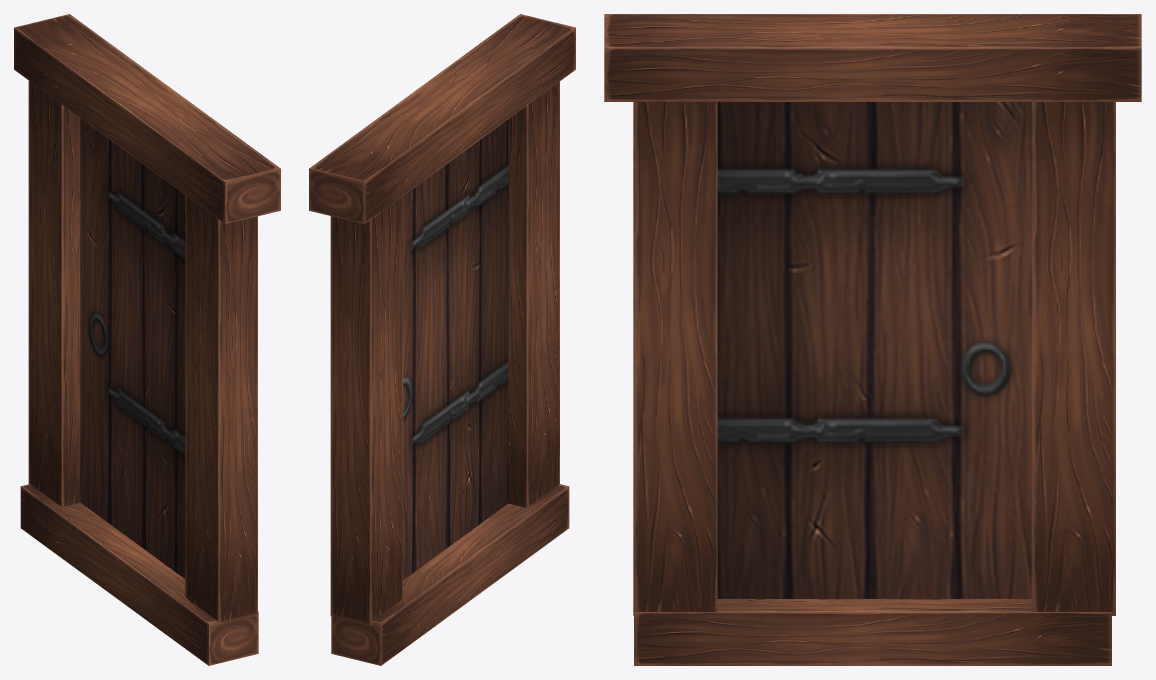
File: door.fbx
3 renders of one model, left to right at view 1: azimuth 30°, elevation 25°; view 2: azimuth 150°, elevation 25°; view 3: azimuth 270°, elevation 25°, orthographic. The views are drawn at different scales.
Visible parts, largest first — view 1: polySurface79; view 2: polySurface79; view 3: polySurface79.
Boxes of the visible parts, x1,y1,x2,y2 form: polySurface79: [14, 14, 280, 665]; polySurface79: [309, 14, 575, 665]; polySurface79: [604, 14, 1141, 665].
Size of the model in its own units: 0.4664 by 3.62 by 2.82.
